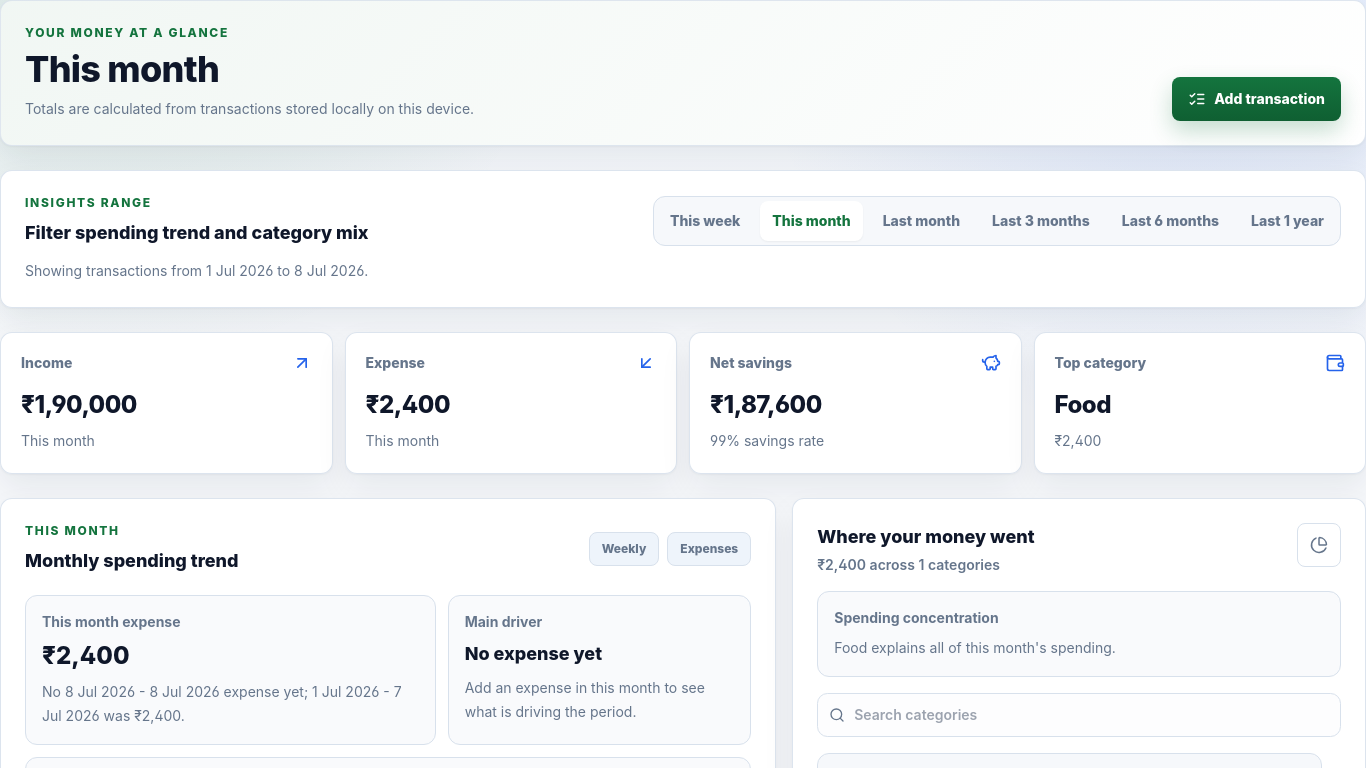
Test case: OverviewDashboard › updates overview cards and category mix when the range changes
The image size is (1366, 768).
expect the text "Food" below "Top category" is shown: met, box [1054,390,1111,419]
Click the tab "Last month": x=921, y=221 [871,201,972,241]
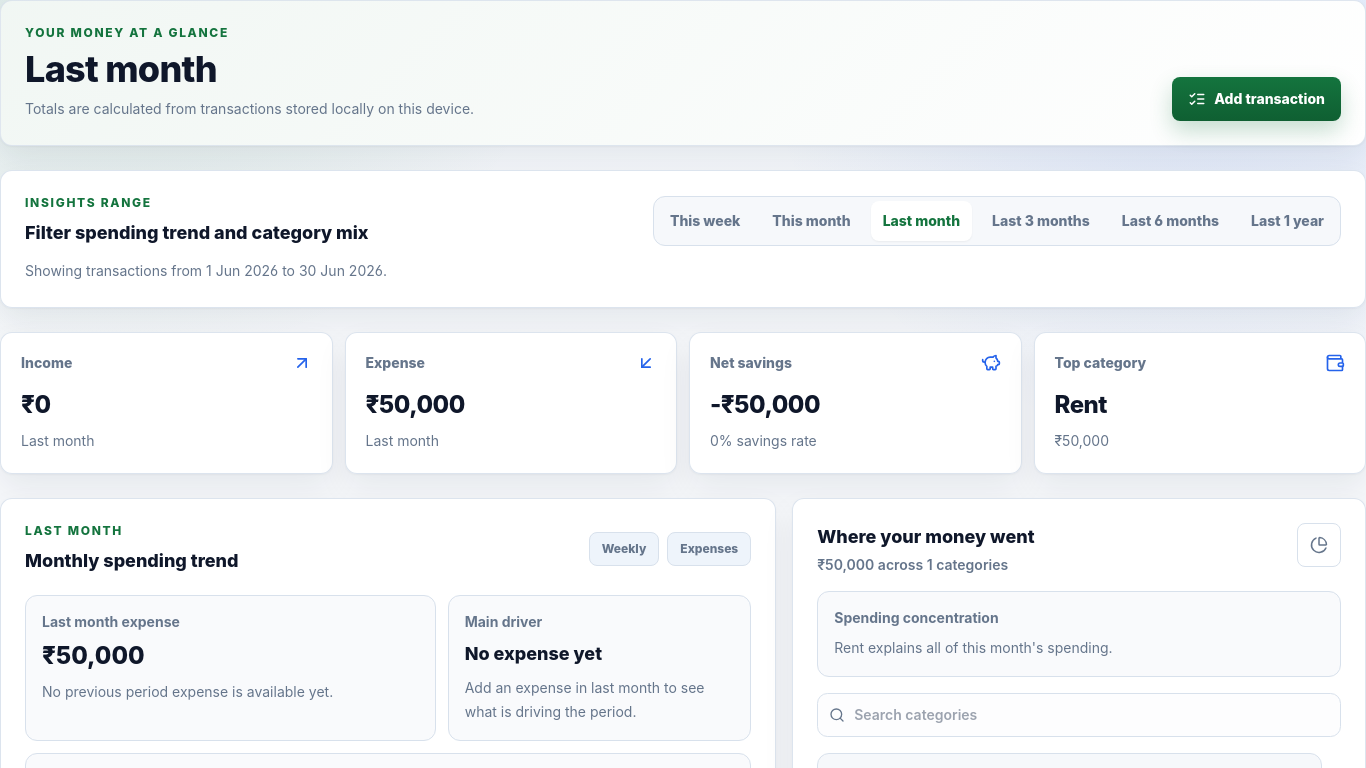
expect the text "Rent" below "Top category" is shown: met, box [1054,390,1107,419]
expect the text "Food" is gone: met
